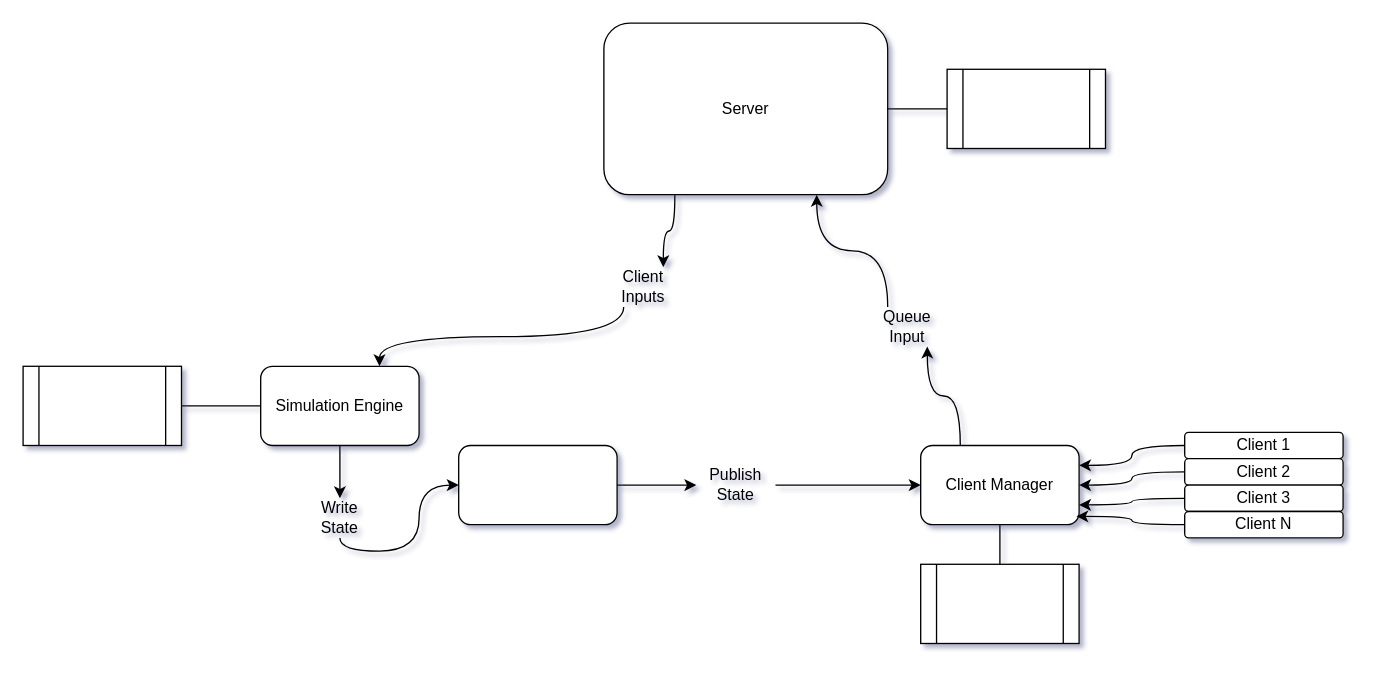
Image size: 1374x675. Some labels were removed from this diagram. The shapes that lost their labels are listed below. From the top down, each one's centre as x and y in pixels, then its label:
At point 1026,108: "Main Thread".
At point 102,405: "Physics/AI Threads".
At point 537,484: "Global State".
At point 999,603: "Client Connection Threads".
